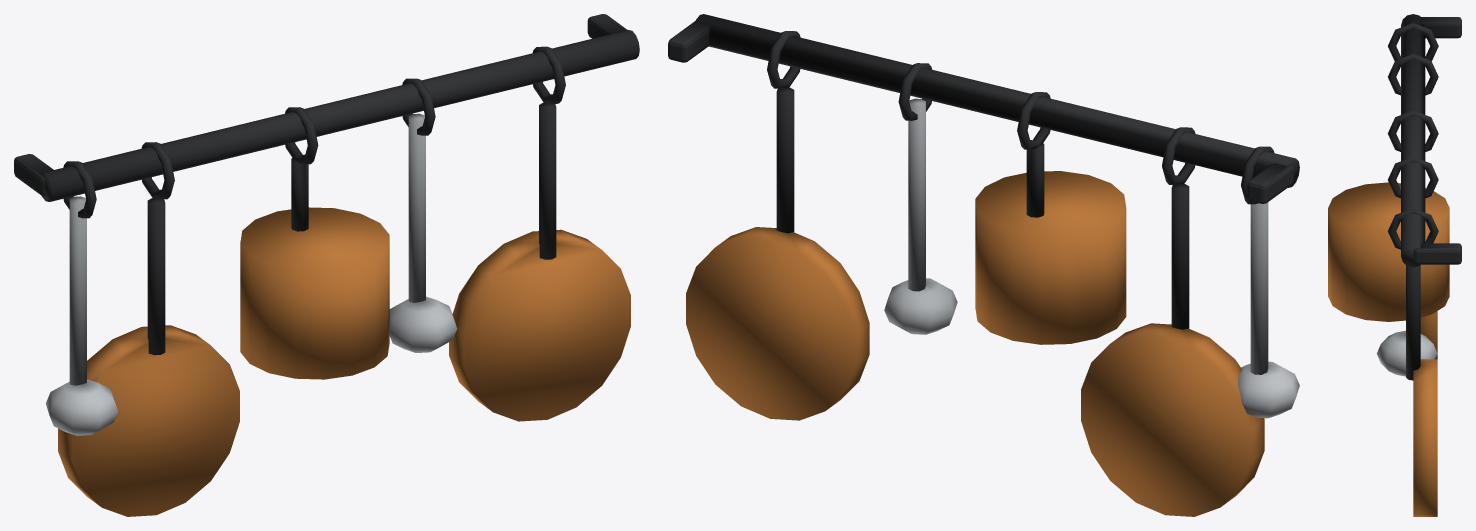
The model's file is potRail.glb.
3 views of the same model, side by side, from view 1: azimuth 30°, elevation 25°; view 2: azimuth 150°, elevation 25°; view 3: azimuth 270°, elevation 25° (orthographic). The views are drawn at different scales.
Parts seen in each view (by area): view 1: body; view 2: body; view 3: body.
Boxes of the visible parts, box(x1,y1,x2,y2) form: body: box(14, 14, 639, 516); body: box(668, 14, 1299, 516); body: box(1328, 14, 1461, 516).
Size of the model in its own units: 0.91 by 0.547 by 0.22.
